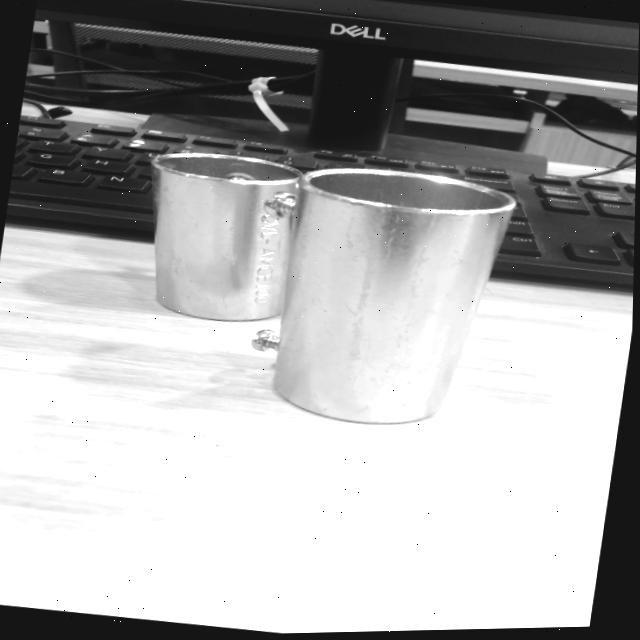Co_Lon: (237, 148, 524, 441)
Co_Nho: (143, 150, 299, 324)
